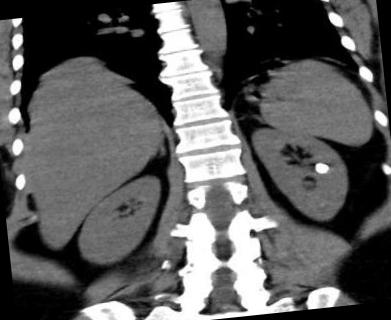Tas_Var: (312, 158, 330, 178)
